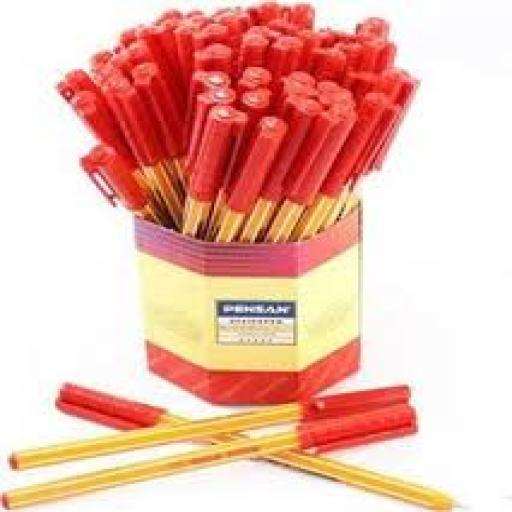tukenmez-kalem: (1, 0, 489, 236), (0, 361, 512, 512)
